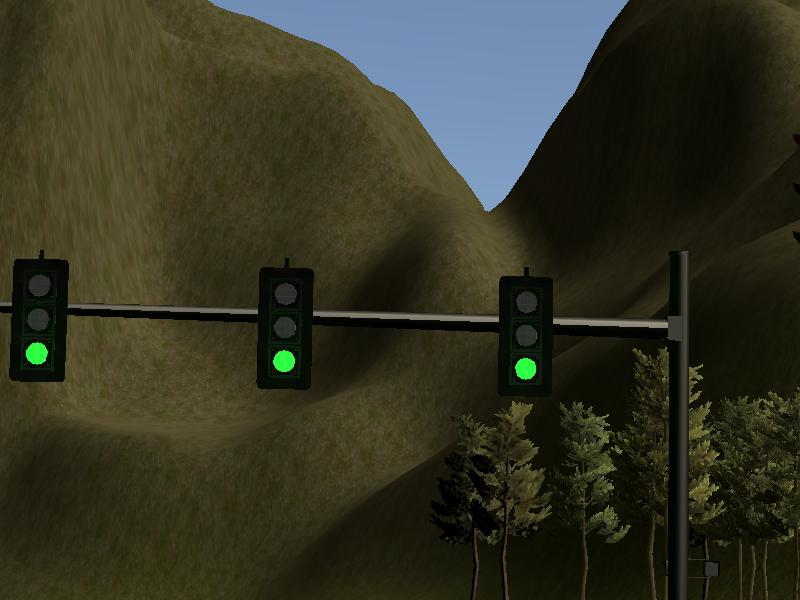Green: (259, 270, 311, 388), (15, 260, 63, 377), (502, 278, 549, 392)
